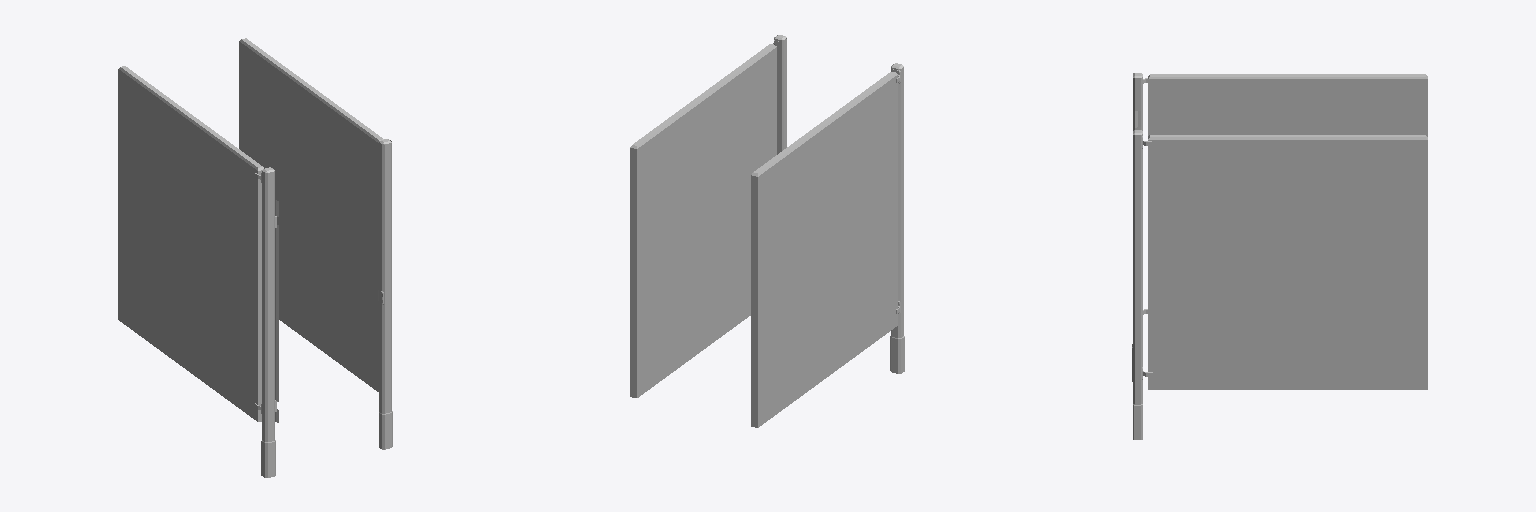
File: bath_opened.obj
The picture shows the model from 3 angles: view 1: azimuth 30°, elevation 25°; view 2: azimuth 150°, elevation 25°; view 3: azimuth 270°, elevation 25°; orthographic projection.
Parts seen in each view (by area): view 1: Mesh_0.001_Mesh_0.001_DIFFUSE.001; view 2: Mesh_0.001_Mesh_0.001_DIFFUSE.001; view 3: Mesh_0.001_Mesh_0.001_DIFFUSE.001.
Part boxes in pixels (bbox=[...]): Mesh_0.001_Mesh_0.001_DIFFUSE.001: bbox=[118, 38, 392, 477]; Mesh_0.001_Mesh_0.001_DIFFUSE.001: bbox=[630, 35, 904, 427]; Mesh_0.001_Mesh_0.001_DIFFUSE.001: bbox=[1132, 73, 1427, 439].
Size of the model in its own units: 0.9123 by 2.05 by 1.79.